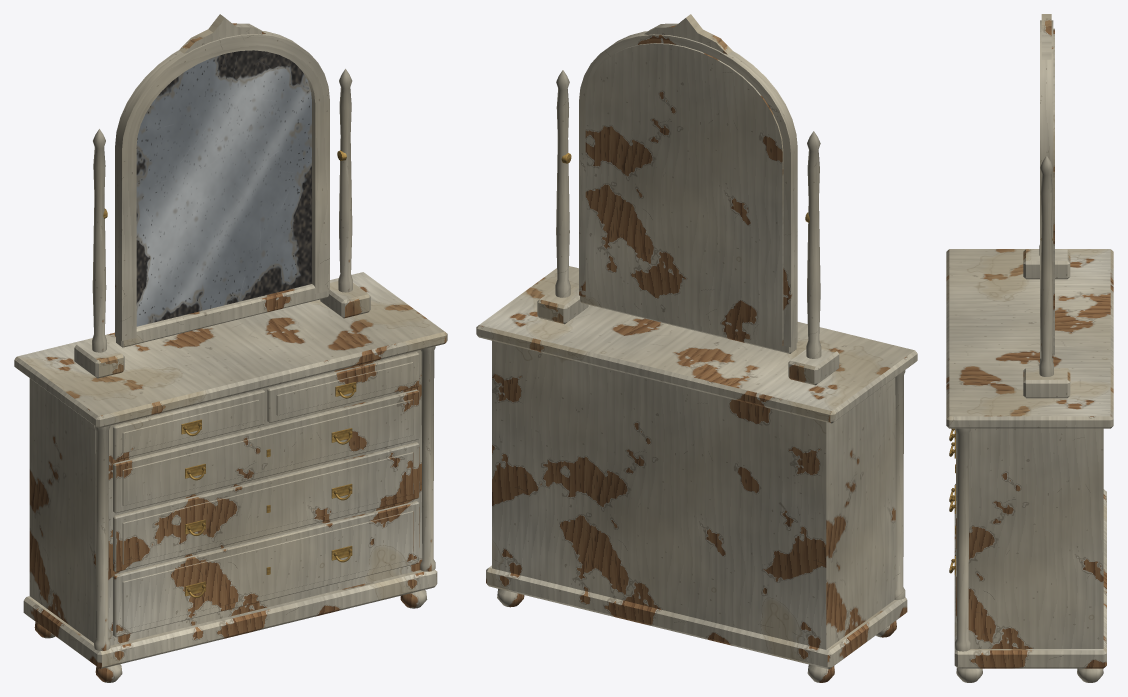
Rendered from bed_dresser.obj.
3 views of the same model, side by side, from view 1: azimuth 30°, elevation 25°; view 2: azimuth 150°, elevation 25°; view 3: azimuth 270°, elevation 25° (orthographic). The views are drawn at different scales.
Parts seen in each view (by area): view 1: bed_dresser_wood_painted_white, bed_dresser_mirror, bed_dresser_brass; view 2: bed_dresser_wood_painted_white; view 3: bed_dresser_wood_painted_white, bed_dresser_brass.
Part boxes in pixels (x1=…): bed_dresser_wood_painted_white: x1=14, y1=14, x2=447, y2=682; bed_dresser_mirror: x1=136, y1=50, x2=311, y2=326; bed_dresser_brass: x1=103, y1=150, x2=356, y2=597; bed_dresser_wood_painted_white: x1=476, y1=14, x2=917, y2=682; bed_dresser_wood_painted_white: x1=946, y1=14, x2=1113, y2=682; bed_dresser_brass: x1=949, y1=238, x2=1052, y2=575.
Size of the model in its own units: 1.2 by 1.95 by 0.5.
3 materials, 3 textured.
